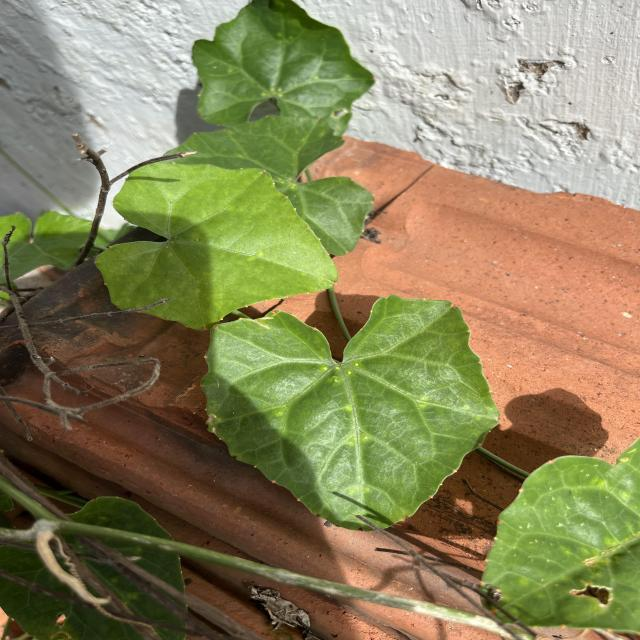Coccinia grandis: (194, 292, 506, 533), (91, 158, 342, 333)
